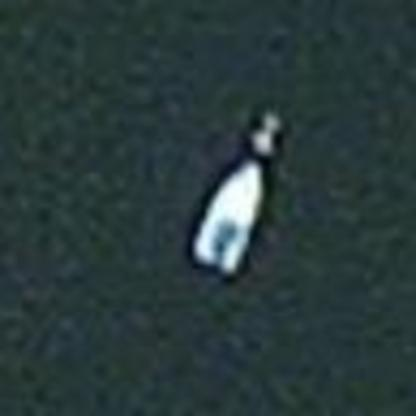ship: (170, 98, 306, 288)
